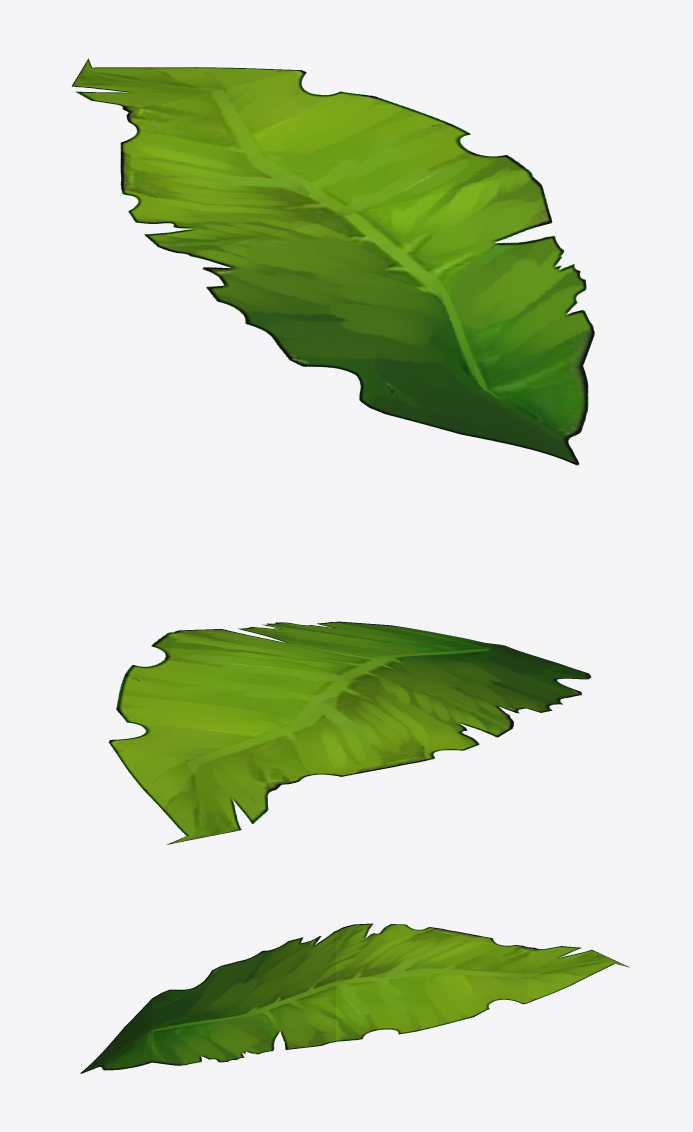
Rendered from Hemp_01.fbx.
The picture shows the model from 3 angles, top to bottom: view 1: azimuth 30°, elevation 25°; view 2: azimuth 150°, elevation 25°; view 3: azimuth 270°, elevation 25°; orthographic projection. The views are drawn at different scales.
Visible parts, largest first — view 1: Hemp_01; view 2: Hemp_01; view 3: Hemp_01.
Part boxes in pixels (<box>): Hemp_01: <box>71,58,594,465</box>; Hemp_01: <box>108,621,591,844</box>; Hemp_01: <box>80,923,629,1073</box>.
Size of the model in its own units: 147 by 57.5 by 296.
